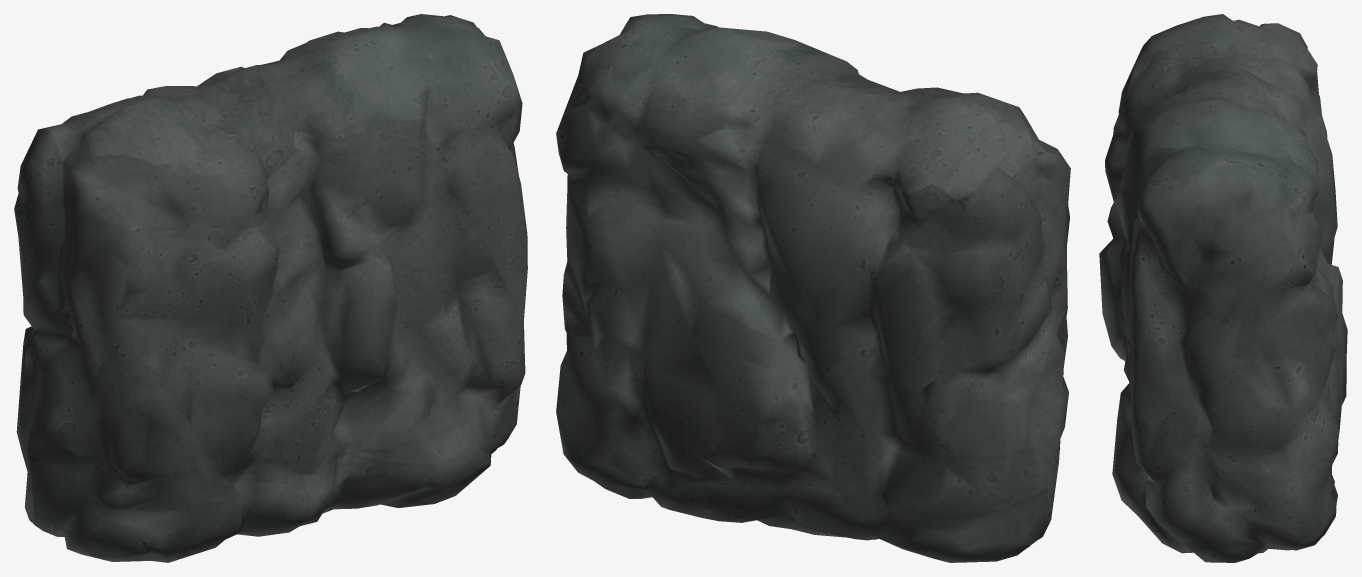
The model's file is Cliff_Cap04.fbx.
3 renders of one model, left to right at view 1: azimuth 30°, elevation 25°; view 2: azimuth 150°, elevation 25°; view 3: azimuth 270°, elevation 25°, orthographic. The views are drawn at different scales.
Parts seen in each view (by area): view 1: SM_Cliff_Cap_04.mo; view 2: SM_Cliff_Cap_04.mo; view 3: SM_Cliff_Cap_04.mo.
Part boxes in pixels (<box>): SM_Cliff_Cap_04.mo: <box>14,14,527,562</box>; SM_Cliff_Cap_04.mo: <box>556,14,1070,562</box>; SM_Cliff_Cap_04.mo: <box>1099,14,1347,562</box>.
Bounding box in the file's own units: 1163 × 1082 × 575.
Materials: 1 (1 with a texture image).
